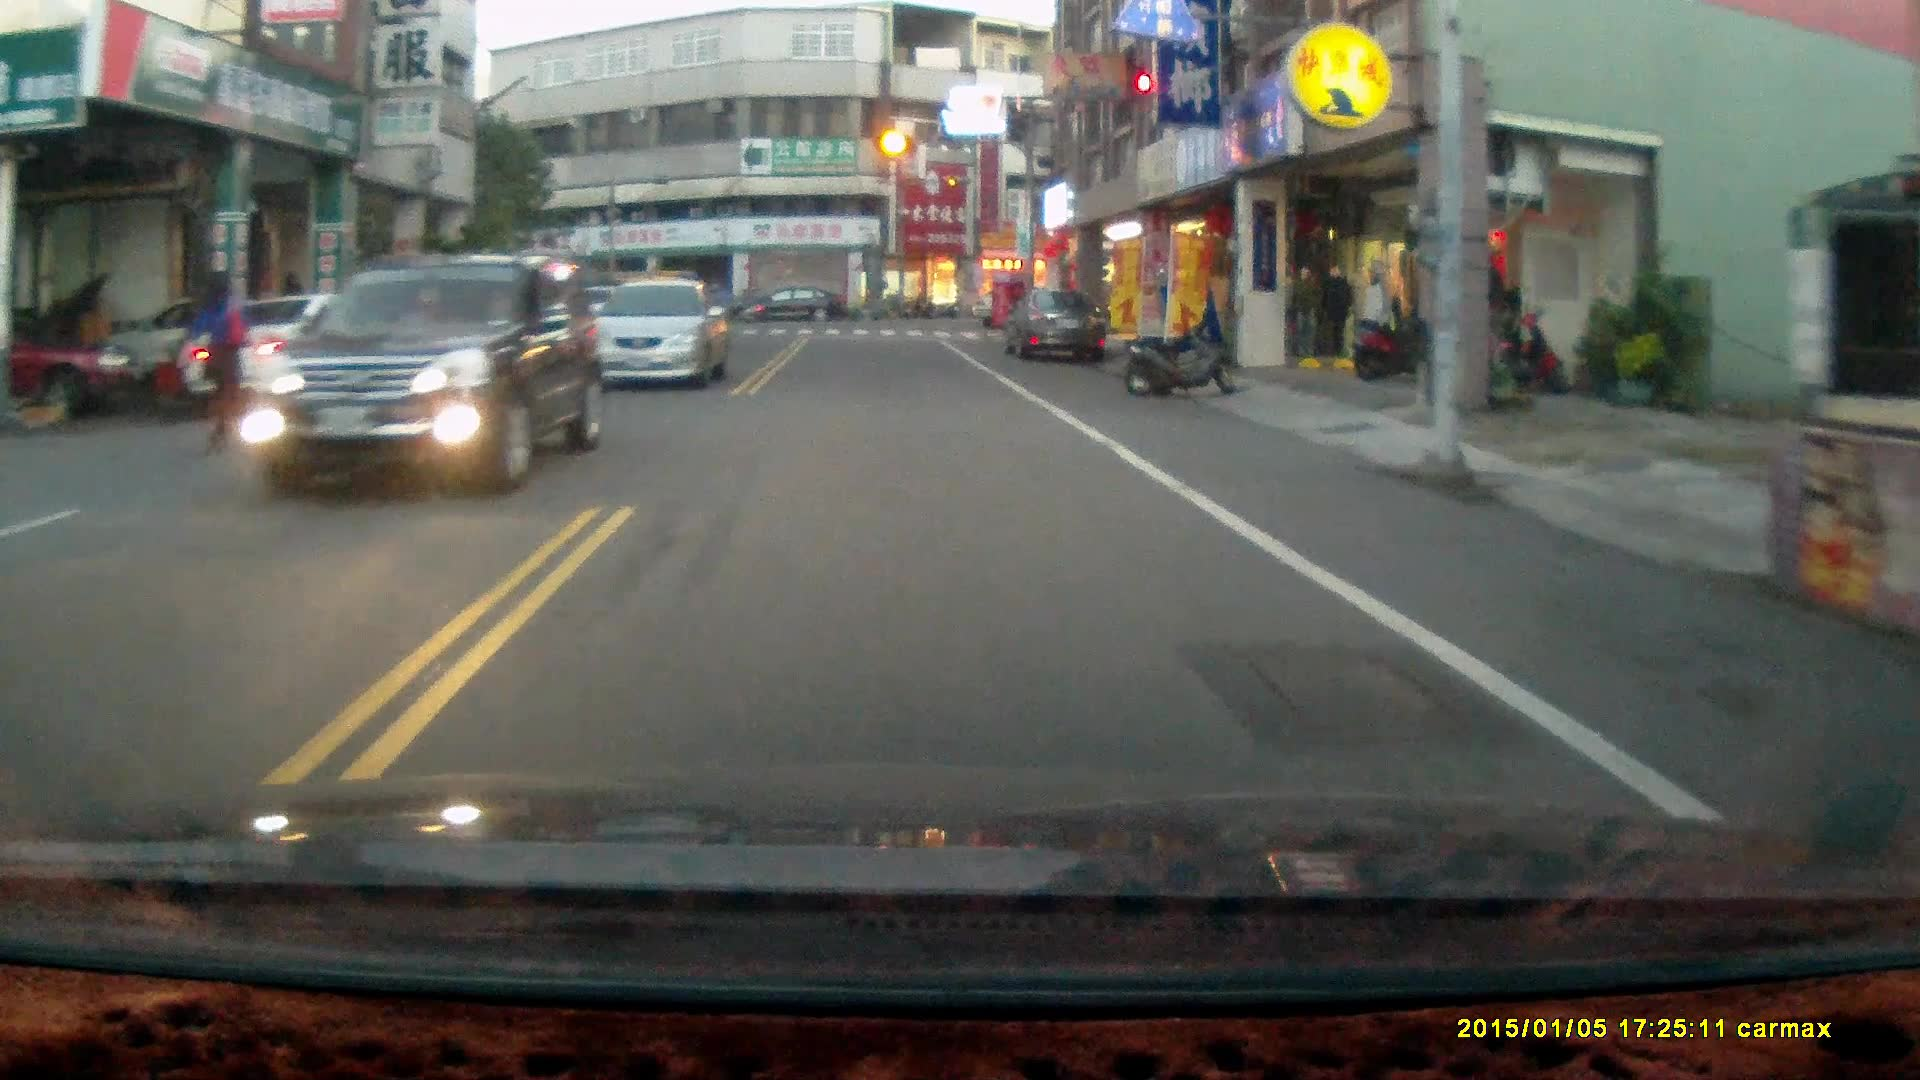pedestrian: (199, 264, 246, 454)
vehicle: (245, 253, 603, 496), (176, 295, 441, 417), (594, 277, 726, 391), (1003, 286, 1111, 369), (738, 287, 849, 332)
